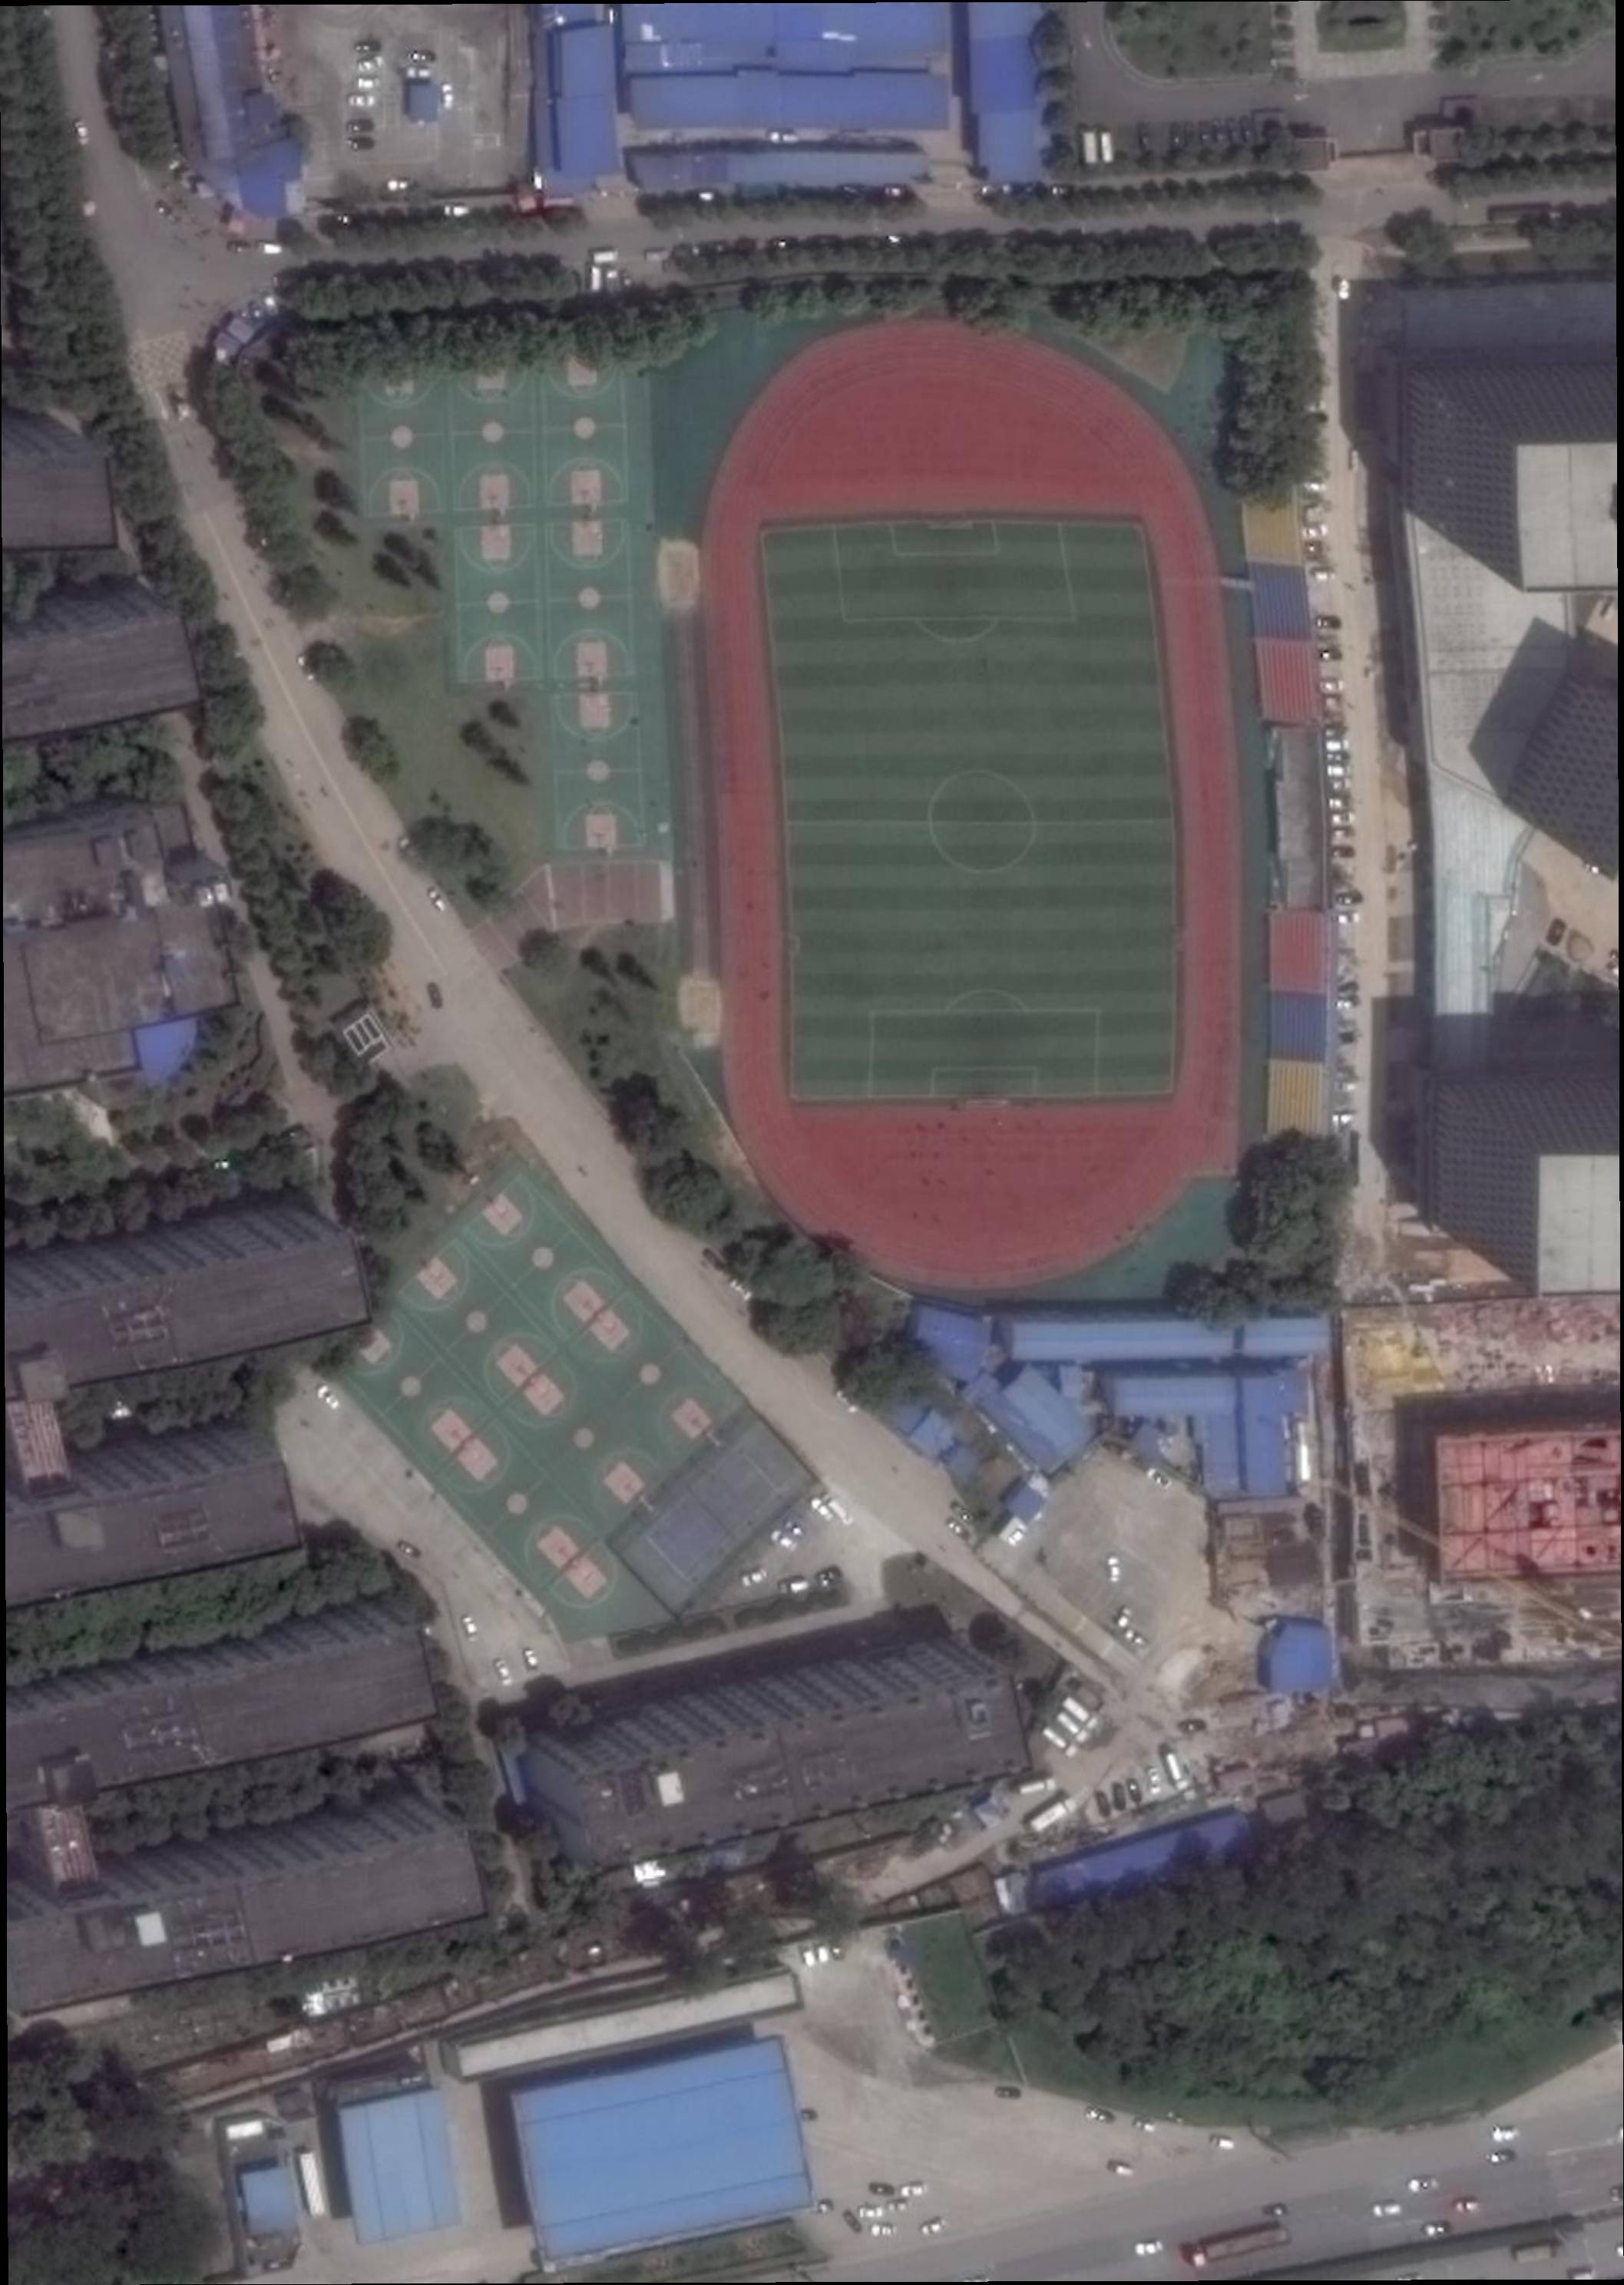basketball court: (503, 1350, 680, 1531), (388, 1232, 559, 1410), (569, 1288, 740, 1464), (431, 1420, 605, 1591), (322, 1301, 489, 1476), (459, 1169, 626, 1343), (350, 334, 446, 519), (550, 332, 642, 519), (455, 332, 543, 519), (548, 694, 649, 854), (448, 524, 545, 687), (552, 524, 647, 687)
ground track field: (717, 315, 1234, 1255)
large vehicle: (1186, 2225, 1292, 2267)
small vehicle: (1134, 2238, 1165, 2257)
soccer ball field: (752, 504, 1199, 1146)
tennis court: (631, 1418, 814, 1592)
